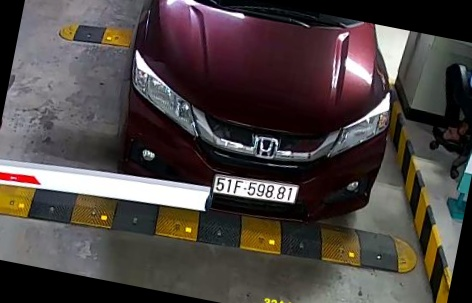plate: (202, 169, 303, 212)
